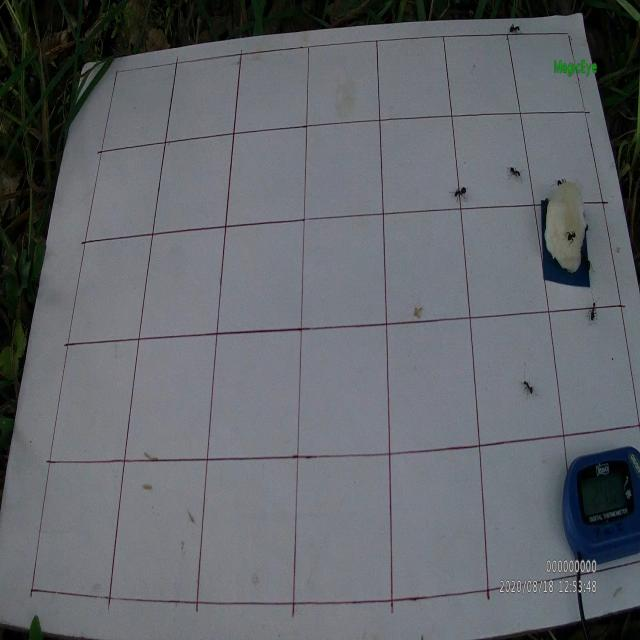Ant: (521, 370, 537, 400), (586, 291, 599, 326), (581, 250, 595, 276), (449, 186, 469, 204), (506, 166, 524, 184), (562, 228, 578, 248), (506, 21, 524, 38)
